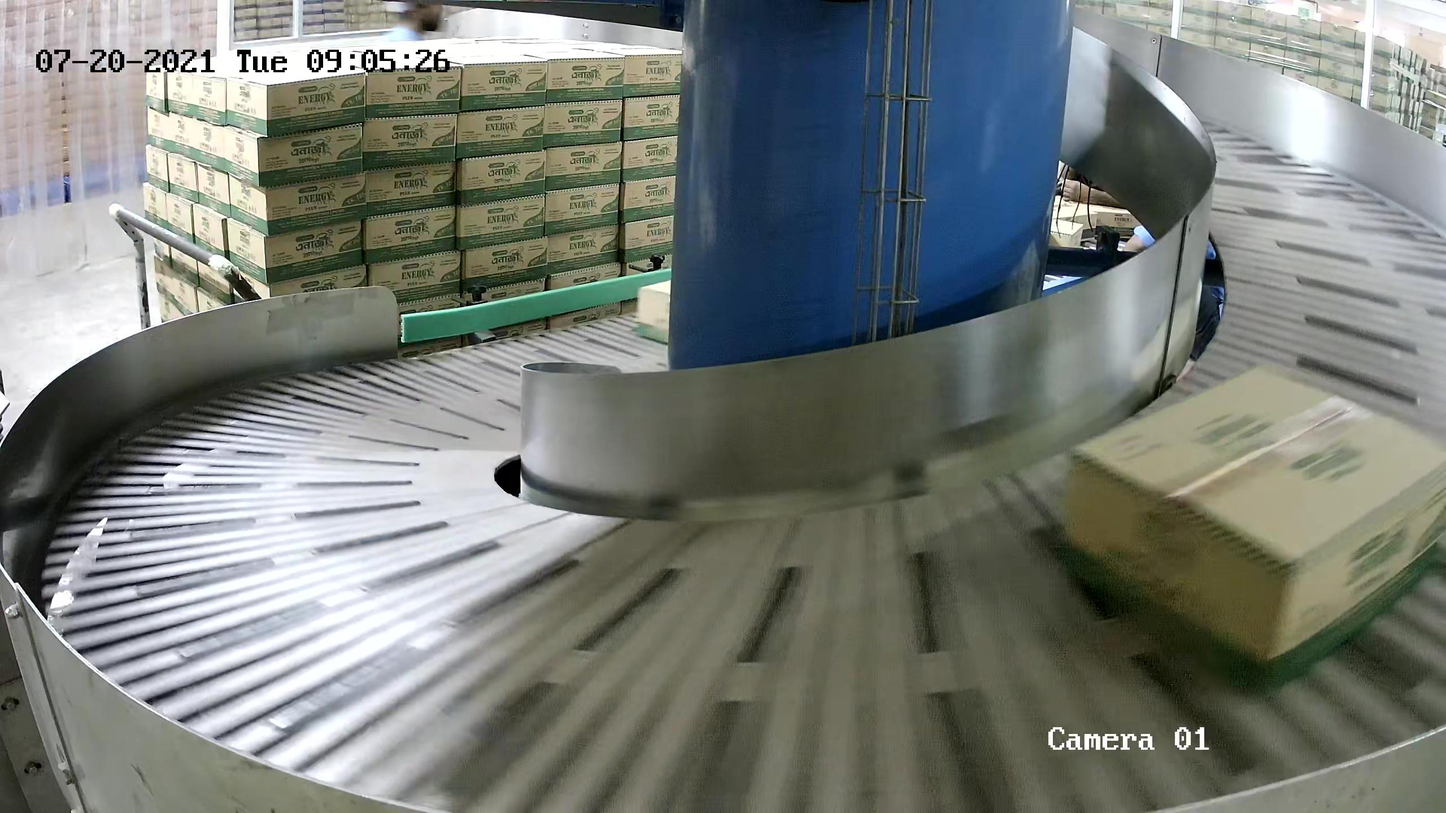Box: (1055, 365, 1446, 690)
